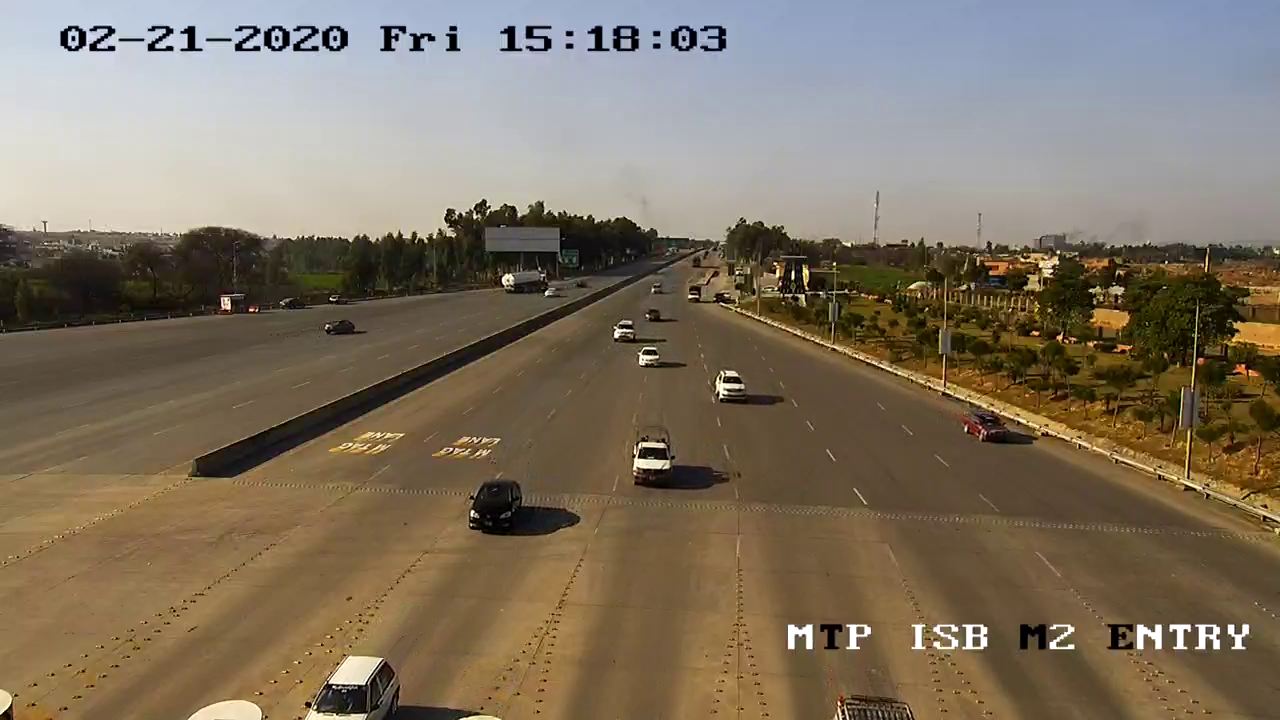f1: (463, 468, 533, 543), (621, 420, 683, 490)
